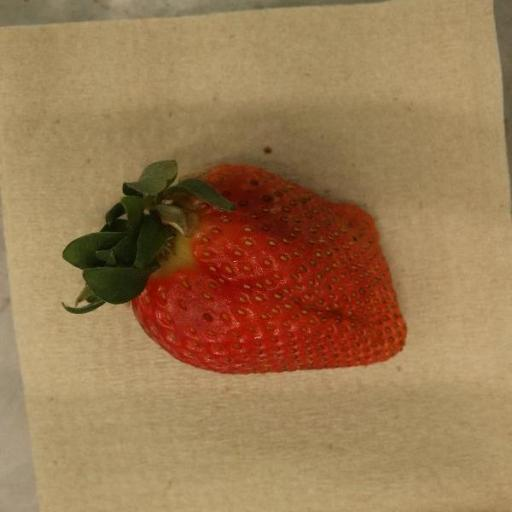Strawberry: (62, 160, 408, 375)
